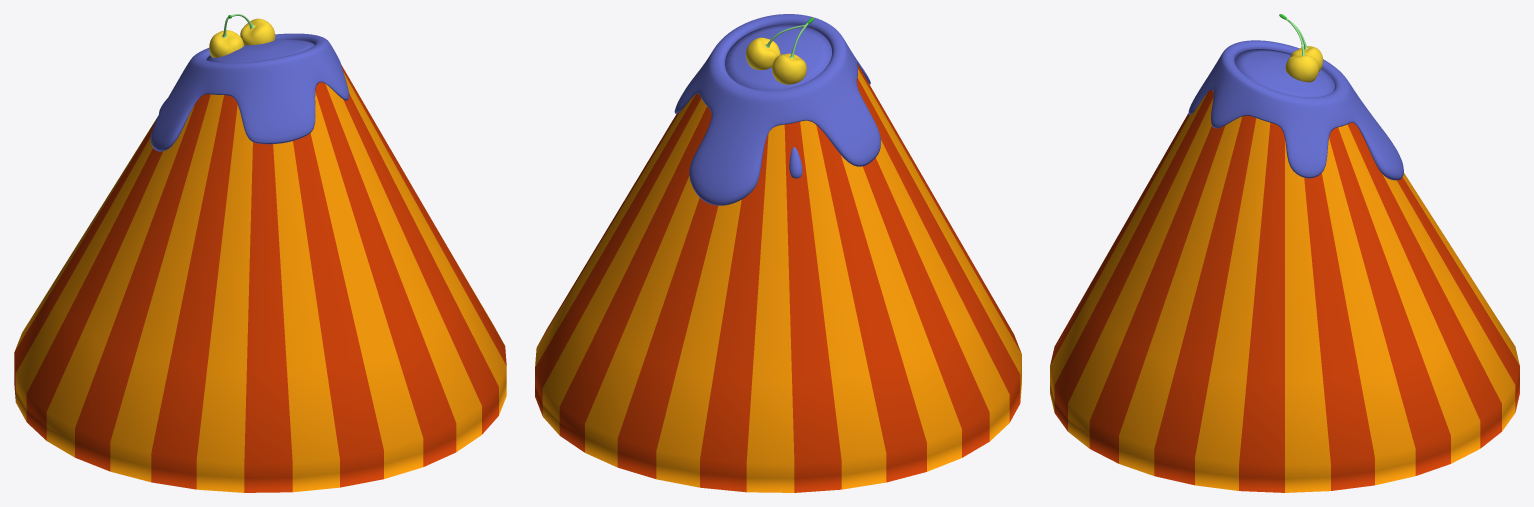
Rendered from creammount_red.fbx.
The picture shows the model from 3 angles, left to right: view 1: azimuth 30°, elevation 25°; view 2: azimuth 150°, elevation 25°; view 3: azimuth 270°, elevation 25°; orthographic projection. The views are drawn at different scales.
Visible parts, largest first — view 1: creammount__1_; view 2: creammount__1_; view 3: creammount__1_.
Boxes of the visible parts, bbox=[...] form: creammount__1_: bbox=[14, 14, 506, 492]; creammount__1_: bbox=[535, 14, 1021, 492]; creammount__1_: bbox=[1050, 14, 1519, 492].
Bounding box in the file's own units: 4556 × 3900 × 4556.
1 material, 1 textured.
